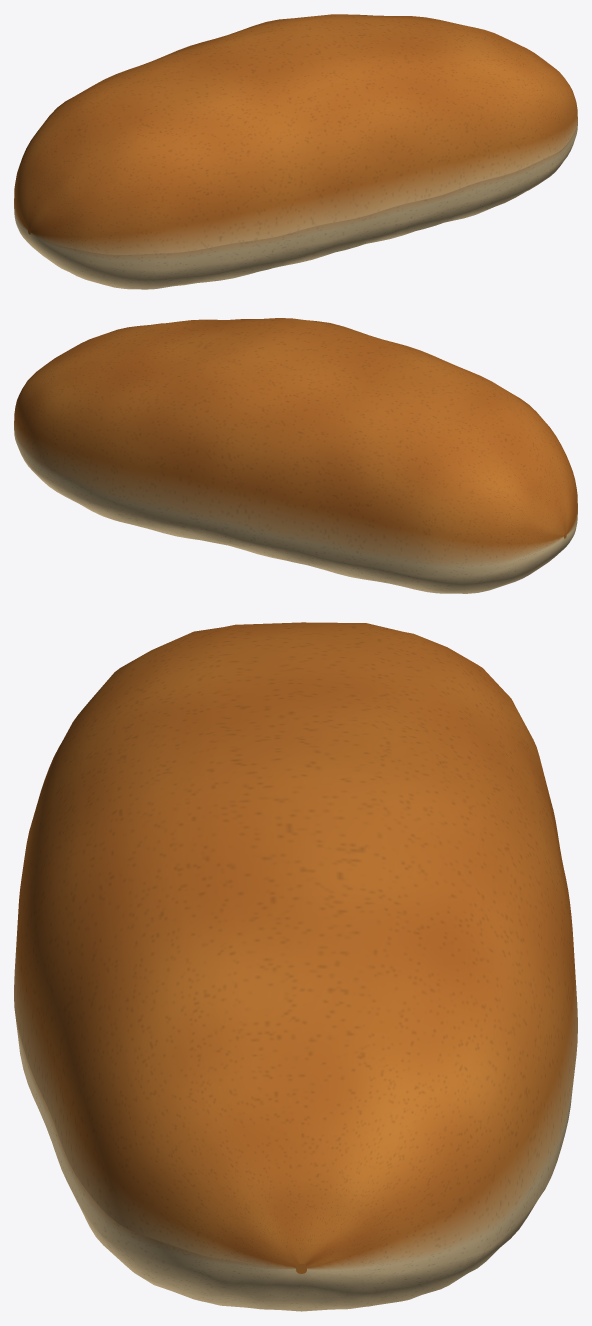
File: bread.glb
3 renders of one model, top to bottom at view 1: azimuth 30°, elevation 25°; view 2: azimuth 150°, elevation 25°; view 3: azimuth 270°, elevation 25°, orthographic. The views are drawn at different scales.
Parts seen in each view (by area): view 1: bread; view 2: bread; view 3: bread.
Boxes of the visible parts, x1,y1,x2,y2 form: bread: (14,14,577,289); bread: (14,318,577,593); bread: (14,622,577,1311).
Size of the model in its own units: 2.25 by 0.7448 by 1.02.
1 material, 1 textured.
